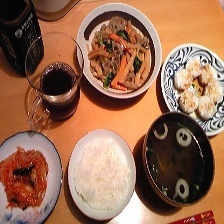rice: (68, 133, 137, 221)
